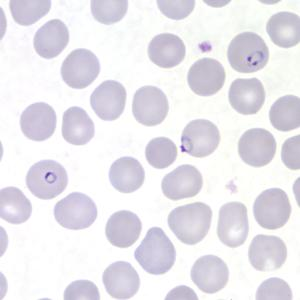Infected: (26, 159, 68, 200), (228, 32, 268, 73), (181, 119, 220, 158)
Uninfected: (134, 227, 176, 273), (167, 202, 211, 245), (55, 192, 98, 230), (253, 188, 291, 230), (186, 58, 226, 97), (61, 49, 100, 89), (90, 81, 127, 121), (20, 102, 57, 142), (162, 165, 203, 201), (216, 202, 249, 246), (238, 128, 275, 167), (191, 255, 228, 294), (248, 235, 287, 272), (105, 210, 142, 248), (102, 262, 140, 299), (133, 86, 168, 126), (34, 19, 69, 58), (228, 78, 265, 114), (147, 33, 185, 68), (108, 157, 144, 193), (61, 107, 95, 145), (265, 11, 300, 47), (268, 94, 300, 131), (1, 187, 32, 224), (146, 137, 178, 169), (10, 0, 50, 25), (91, 1, 129, 24), (157, 0, 196, 20), (255, 278, 291, 299), (64, 280, 100, 300), (281, 133, 299, 170)
